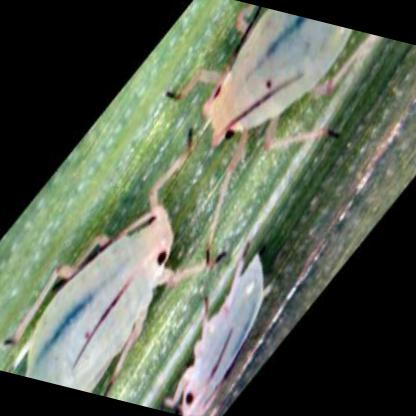schizaphis graminum: (25, 147, 207, 391), (186, 9, 355, 245), (178, 244, 264, 416)
